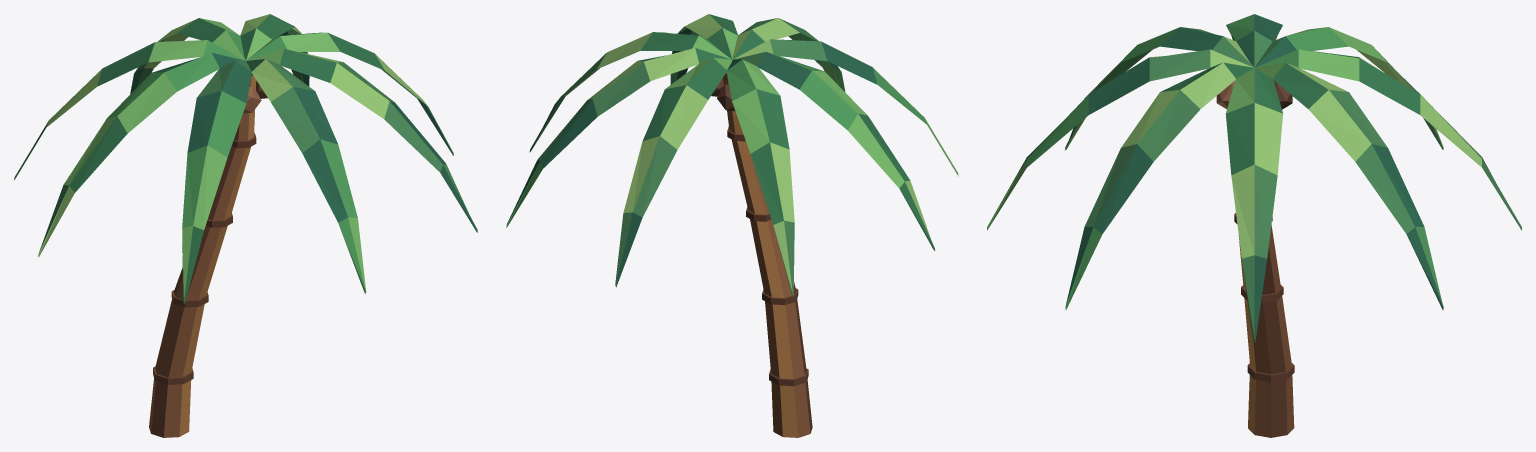
The model's file is Palm_01.obj.
The picture shows the model from 3 angles, left to right: view 1: azimuth 30°, elevation 25°; view 2: azimuth 150°, elevation 25°; view 3: azimuth 270°, elevation 25°; orthographic projection. The views are drawn at different scales.
Parts seen in each view (by area): view 1: Palm_01; view 2: Palm_01; view 3: Palm_01.
Boxes of the visible parts, x1,y1,x2,y2 form: Palm_01: (14,14,477,437); Palm_01: (506,14,958,437); Palm_01: (987,14,1521,437).
Size of the model in its own units: 4.84 by 4.16 by 4.84.
Materials: 1 (1 with a texture image).
